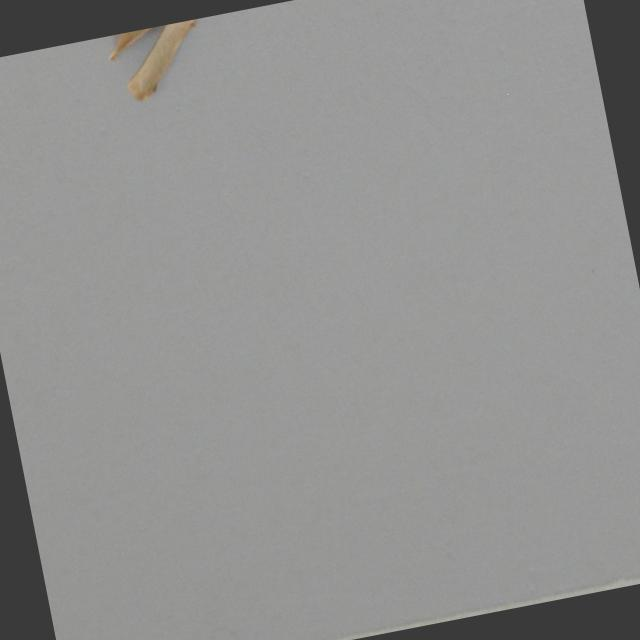cuerpos_extranos: (96, 11, 247, 115)
